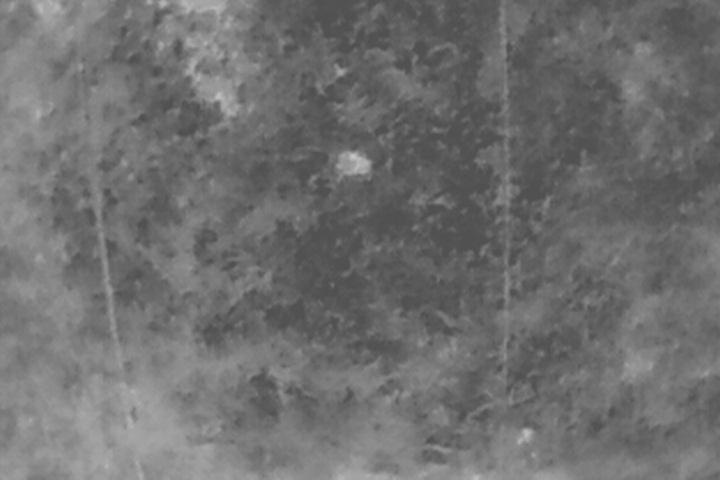landmine: (335, 149, 373, 181)
